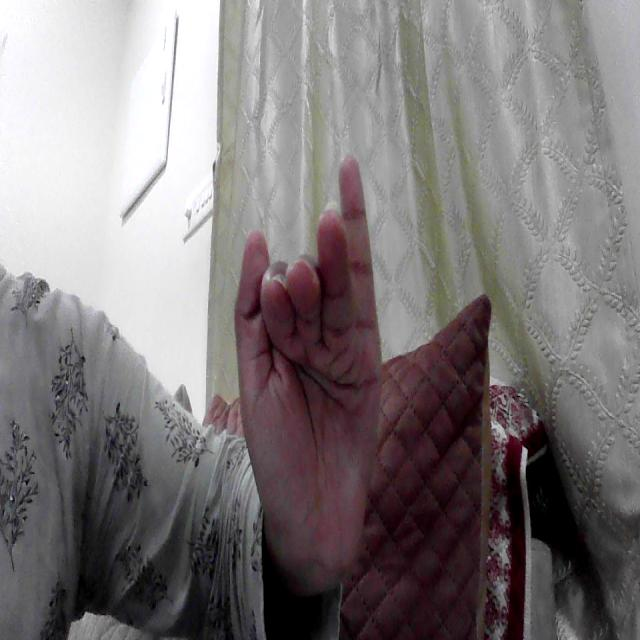Mrigashirsha: (220, 145, 416, 587)
